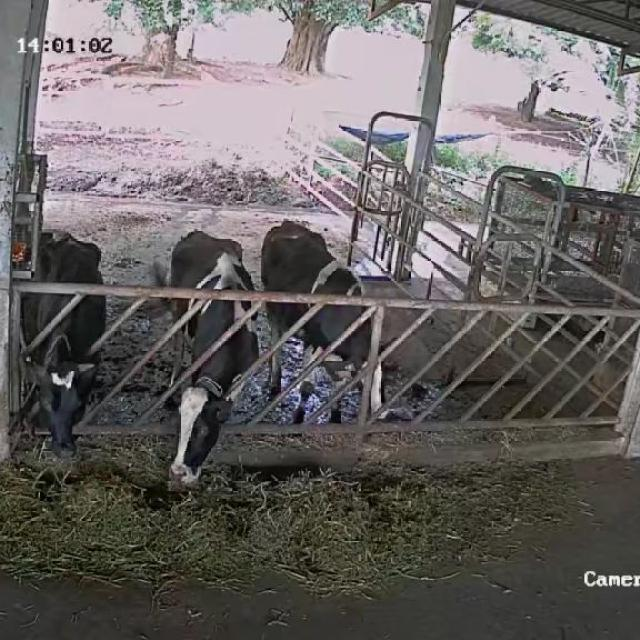feeding: (8, 223, 116, 496)
